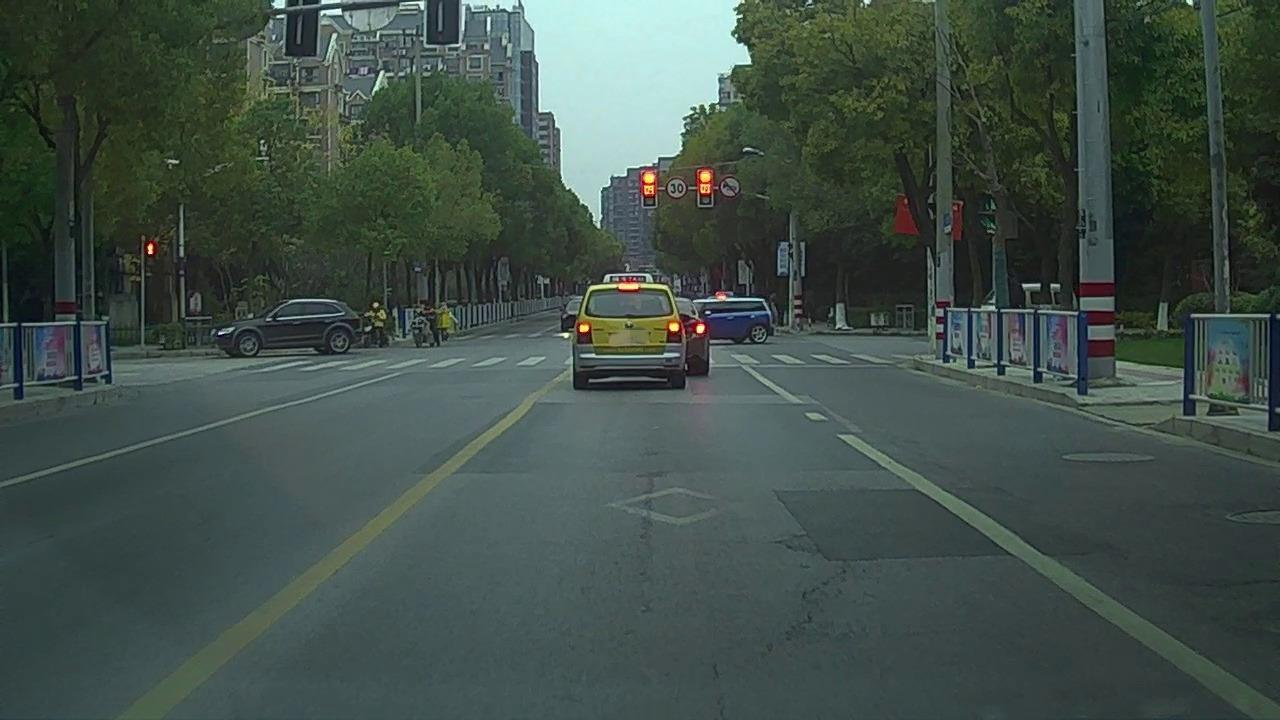traffic_light: (641, 170, 654, 207), (699, 169, 711, 207)
